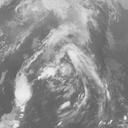cyclone: (37, 43, 89, 93)
